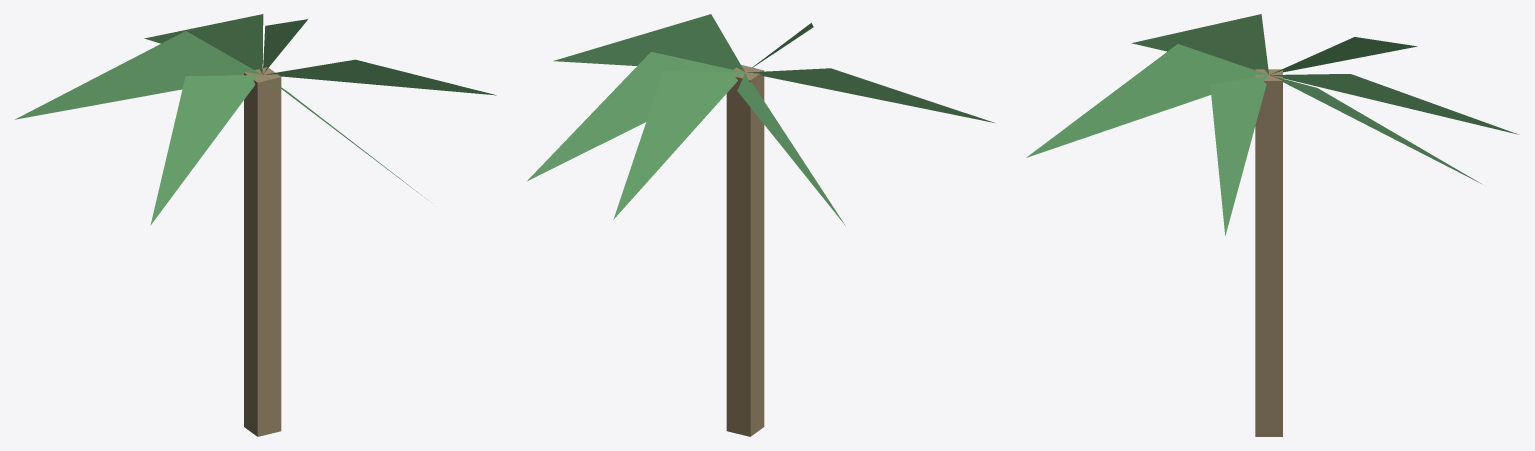
The model's file is palm_1.glb.
3 views of the same model, side by side, from view 1: azimuth 30°, elevation 25°; view 2: azimuth 150°, elevation 25°; view 3: azimuth 270°, elevation 25° (orthographic).
Size of the model in its own units: 5.83 by 5.3 by 6.3.
